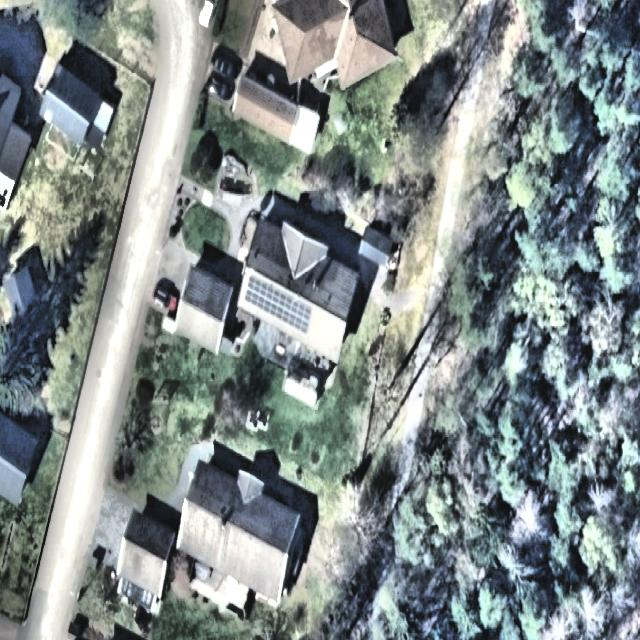roof_pv: (242, 270, 314, 336)
